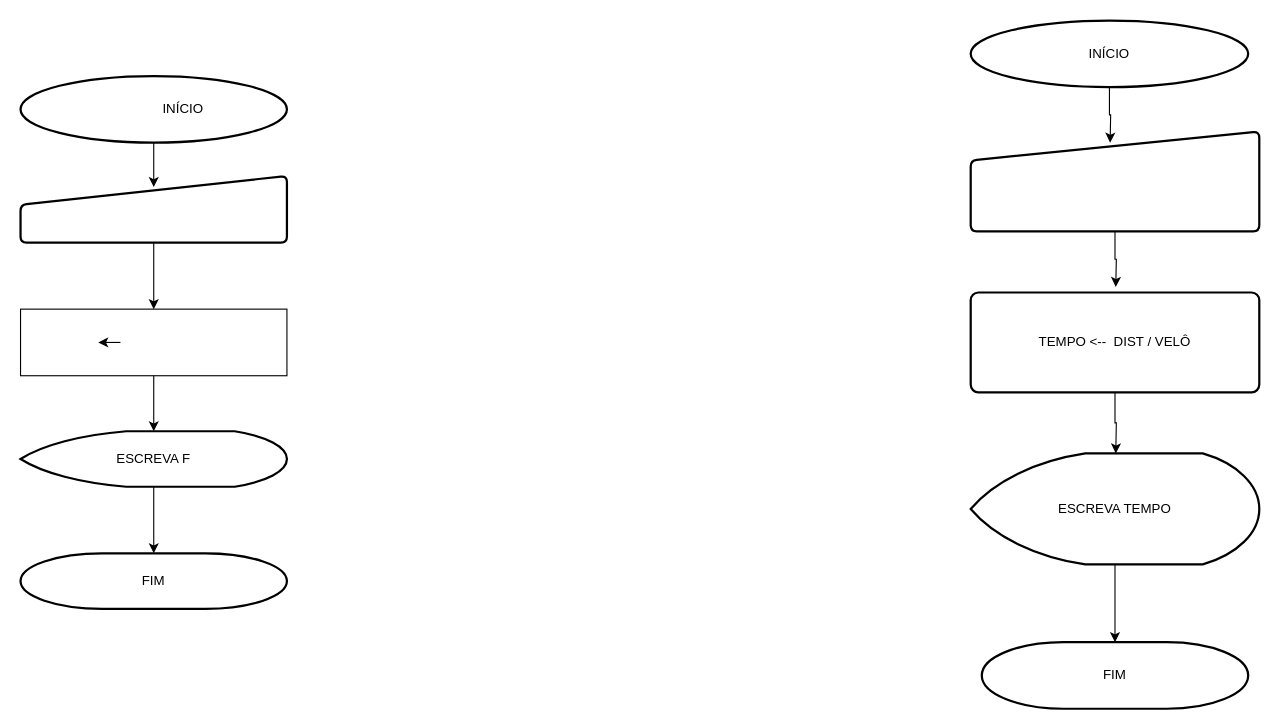
Image size: 1279x728. Some labels were removed from this diagram. The box of each missing label's shape, as (x1, y1, x2, y2) in pixels:
f ((9° * c) / 5) + 32: (19, 308, 287, 376)
LEIA C: (19, 174, 287, 243)
LEIA DISTANCIA, VELÔCIDADE: (969, 130, 1260, 232)
